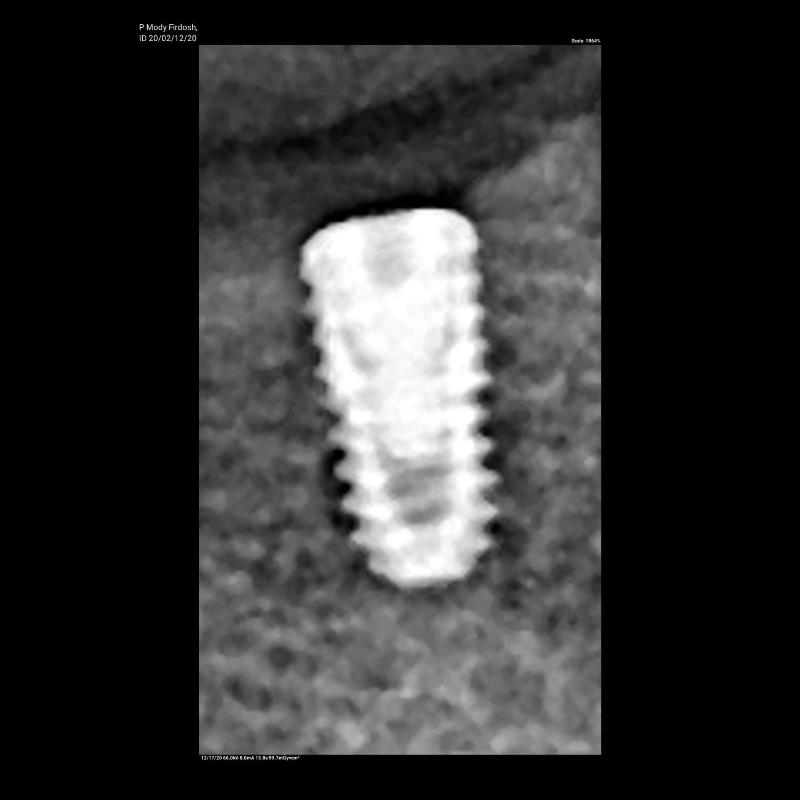osstem: (292, 195, 500, 588)
